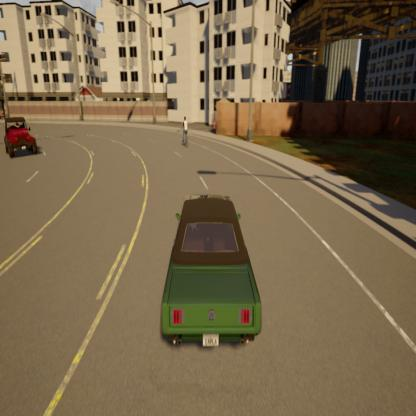Cars: (152, 180, 269, 370), (0, 109, 41, 158)
